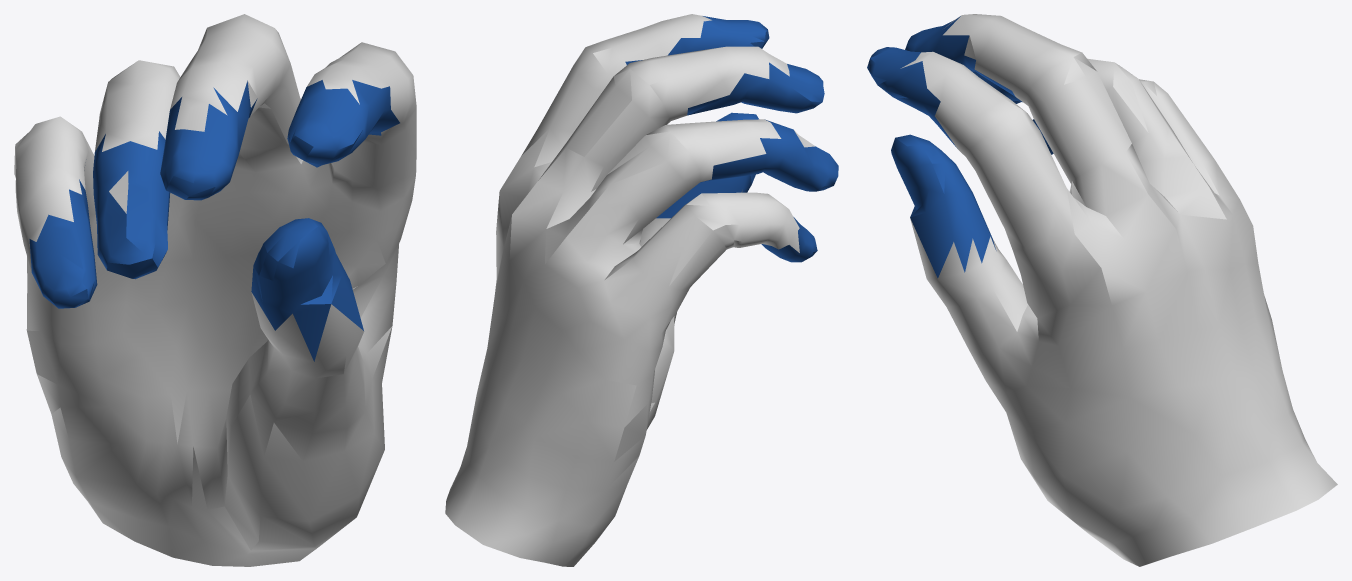
Rendered from video_mallet.glb.
The picture shows the model from 3 angles, left to right: view 1: azimuth 30°, elevation 25°; view 2: azimuth 150°, elevation 25°; view 3: azimuth 270°, elevation 25°; orthographic projection. The views are drawn at different scales.
Visible parts, largest first — view 1: mesh0; view 2: mesh0; view 3: mesh0.
Part boxes in pixels (x1,y1,x2,y2): mesh0: (14,14,416,566); mesh0: (445,14,838,566); mesh0: (867,14,1337,566).
Size of the model in its own units: 0.1004 by 0.1531 by 0.1346.
